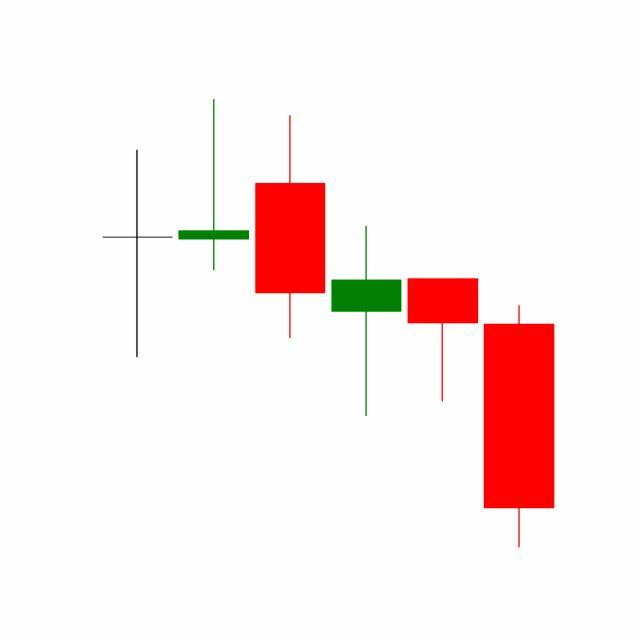Three Outside Up-Down: (326, 221, 555, 548)
